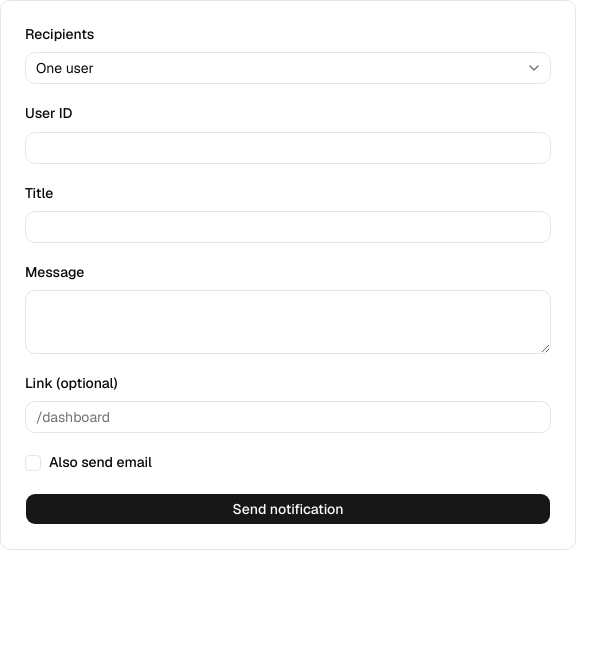
Test: SendNotificationForm › renders the send fields and validates required values locally
This screenshot has width=593, height=651.
Expected: the text "Recipients" is shown, [25,25,94,43]
Expected: the field labelled "User ID" is shown, [25,132,551,164]
Click the button "Send notification": click(288, 508) [25,492,551,524]
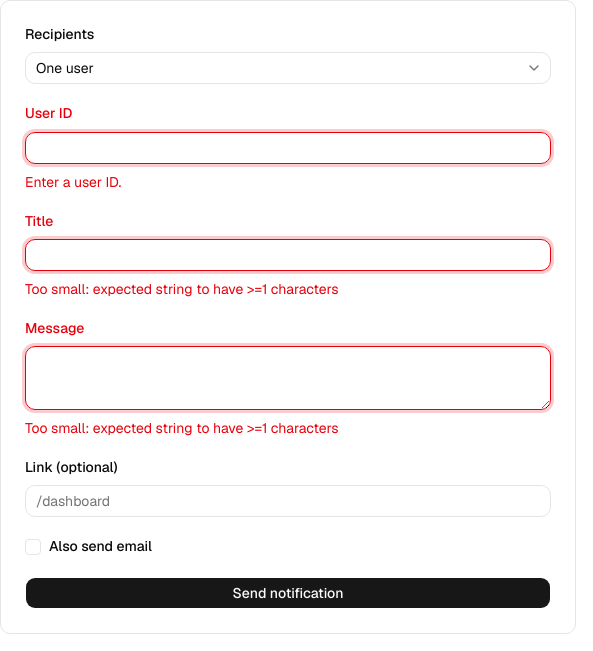
Expected: the text "Enter a user ID." is shown, [25,172,121,190]
